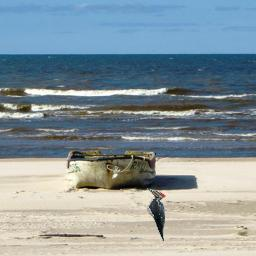Woodpecker: (146, 188, 166, 241)
